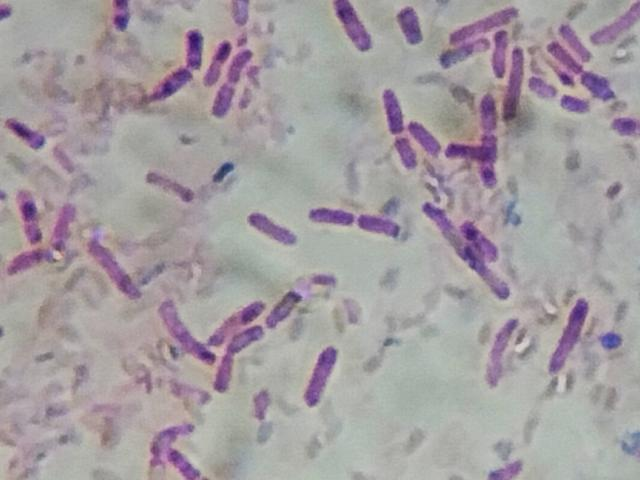E. coli: (416, 194, 515, 297), (156, 296, 212, 363), (483, 316, 521, 393), (555, 286, 589, 371), (446, 5, 522, 41), (92, 236, 136, 298), (303, 342, 341, 410), (334, 1, 373, 60), (151, 163, 201, 207), (598, 0, 640, 48), (251, 209, 297, 251), (378, 82, 409, 133), (313, 203, 357, 238), (2, 113, 39, 153), (152, 413, 194, 448), (436, 39, 488, 66), (362, 203, 397, 242), (508, 46, 526, 121), (53, 199, 79, 250), (18, 182, 41, 239), (484, 444, 520, 480), (148, 65, 187, 98), (226, 296, 266, 326), (173, 444, 206, 480), (110, 0, 140, 35), (399, 5, 429, 40), (488, 22, 507, 74), (411, 117, 439, 151), (275, 289, 301, 325), (609, 113, 640, 143), (562, 20, 589, 54), (232, 47, 256, 85), (231, 326, 266, 351), (209, 32, 227, 80), (182, 26, 204, 63), (559, 89, 588, 117), (555, 47, 586, 73), (215, 82, 235, 117), (393, 135, 413, 169), (216, 352, 231, 397), (12, 246, 49, 264), (535, 75, 558, 99), (0, 0, 19, 26)
